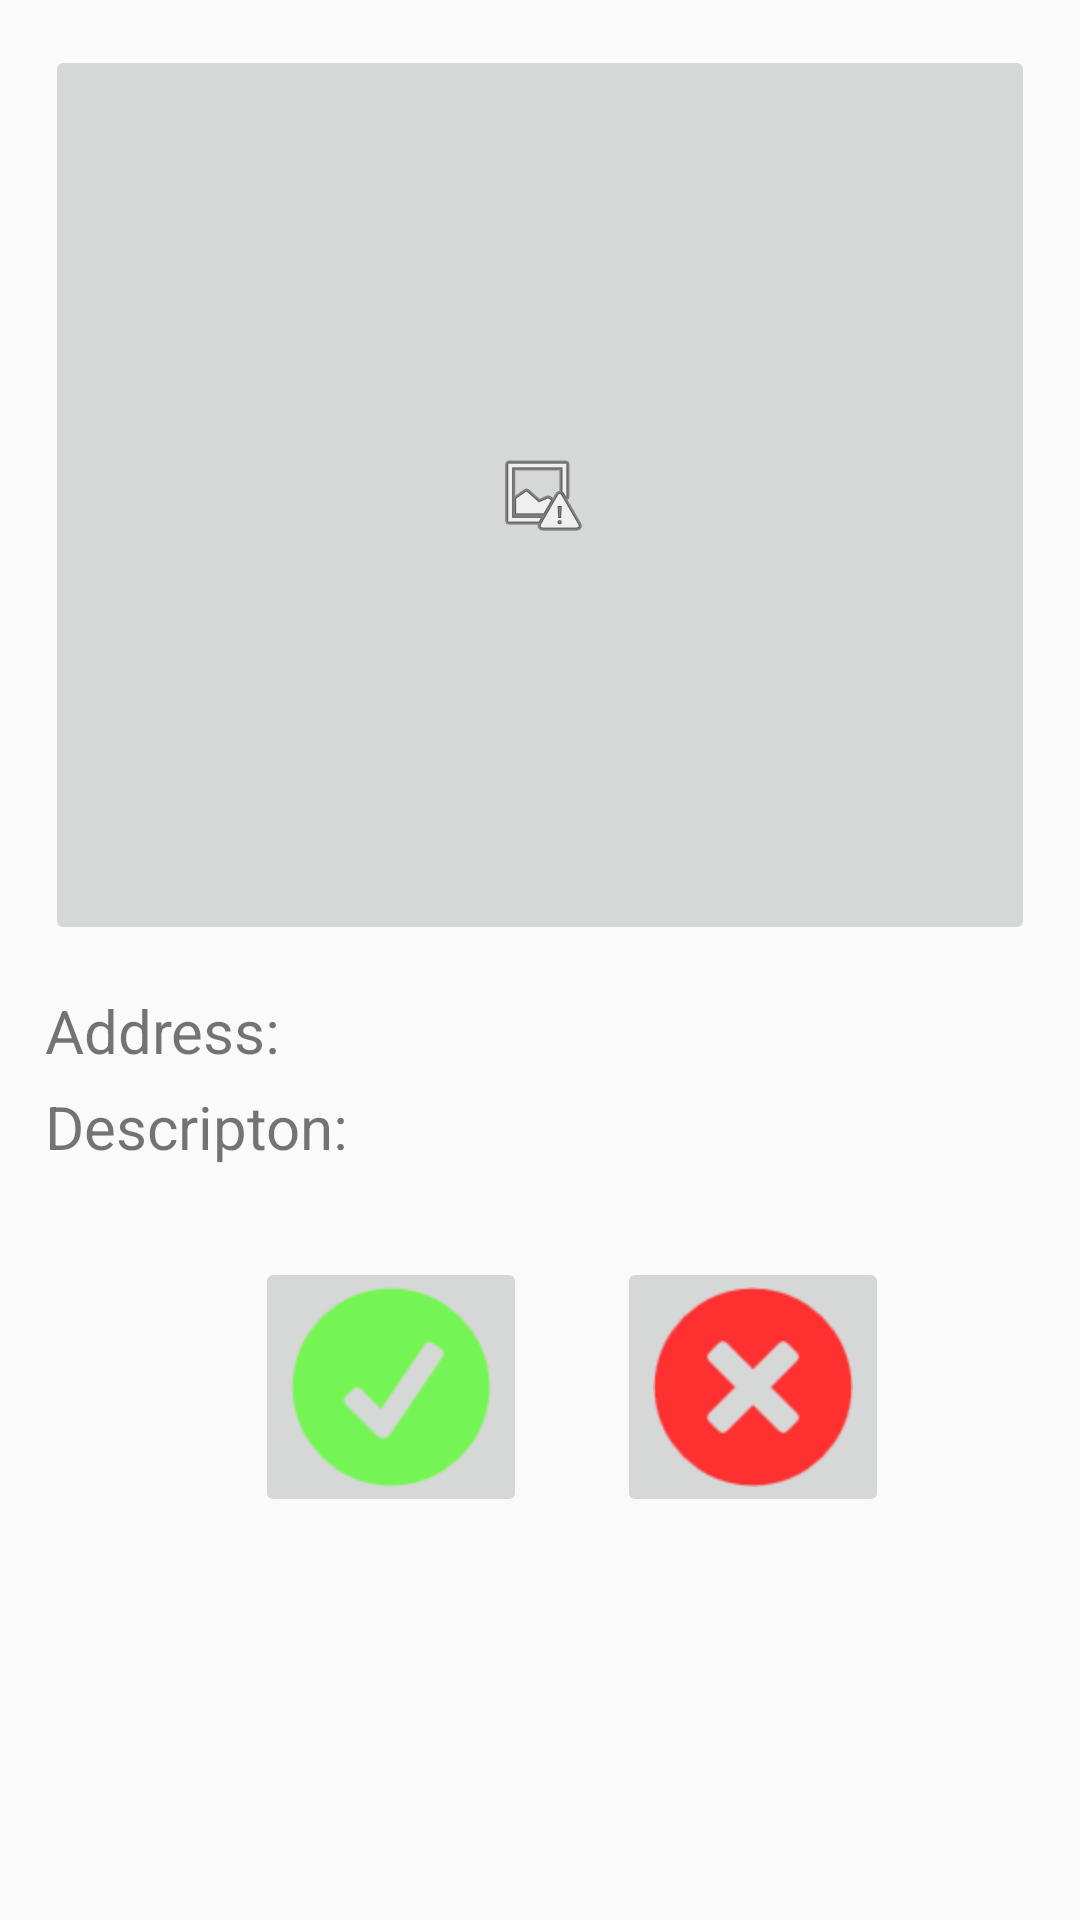

Point at icon controls on the screen. Image size 1080px x 1920px, points as (x=x, y=y).
cancel: (x=753, y=1387)
